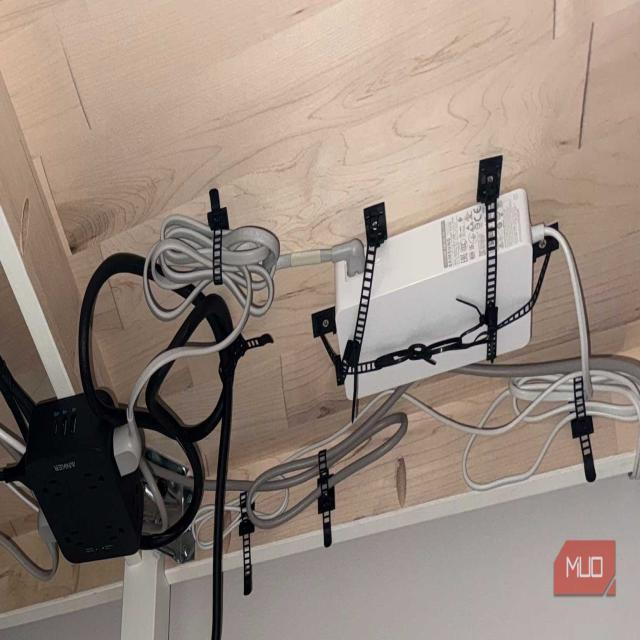electronics: (0, 156, 639, 637), (311, 156, 595, 490), (311, 155, 558, 420), (24, 394, 143, 561), (360, 204, 486, 361), (358, 344, 486, 395), (474, 155, 502, 362), (496, 190, 532, 321), (142, 447, 192, 521), (0, 355, 33, 460), (278, 238, 365, 275), (571, 381, 596, 481), (335, 262, 362, 352), (32, 509, 58, 579), (112, 424, 142, 474), (497, 313, 531, 353), (330, 238, 365, 274), (161, 529, 195, 562), (37, 509, 56, 544), (143, 499, 158, 521), (141, 475, 153, 498), (290, 252, 305, 264), (345, 376, 353, 398), (632, 453, 639, 475), (462, 329, 474, 335), (358, 421, 367, 428), (467, 335, 473, 341), (21, 495, 27, 501), (586, 381, 590, 390), (636, 404, 639, 415), (352, 430, 356, 435), (475, 330, 483, 332), (464, 301, 469, 304), (456, 298, 461, 301), (416, 424, 420, 427), (33, 504, 36, 507), (635, 466, 637, 470), (339, 430, 343, 432), (126, 615, 128, 618), (190, 479, 192, 481), (27, 568, 29, 570), (347, 424, 348, 426), (191, 475, 192, 477), (154, 564, 155, 565), (173, 476, 174, 477), (125, 601, 126, 601)
